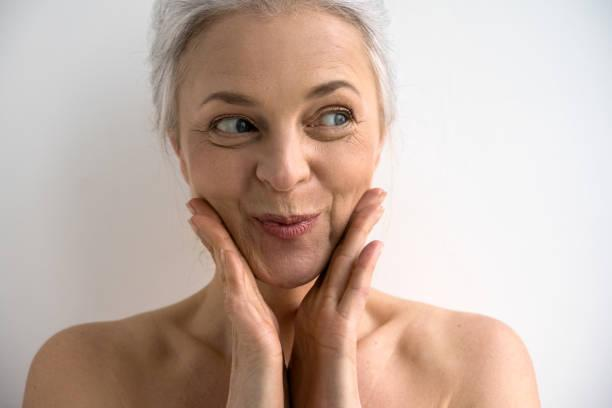Dry-Skin: (203, 29, 354, 86)
